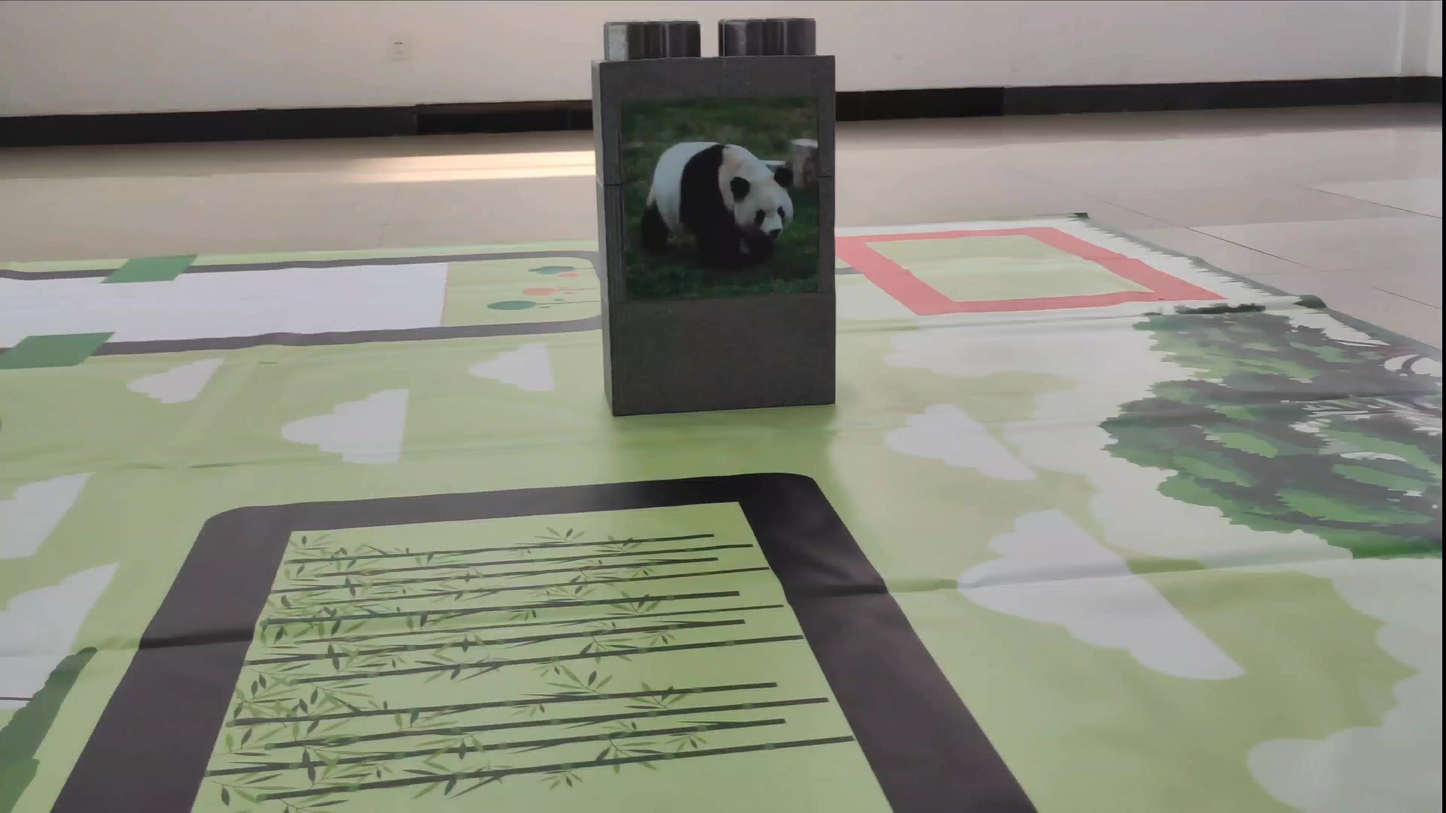panda: (635, 119, 818, 271)
